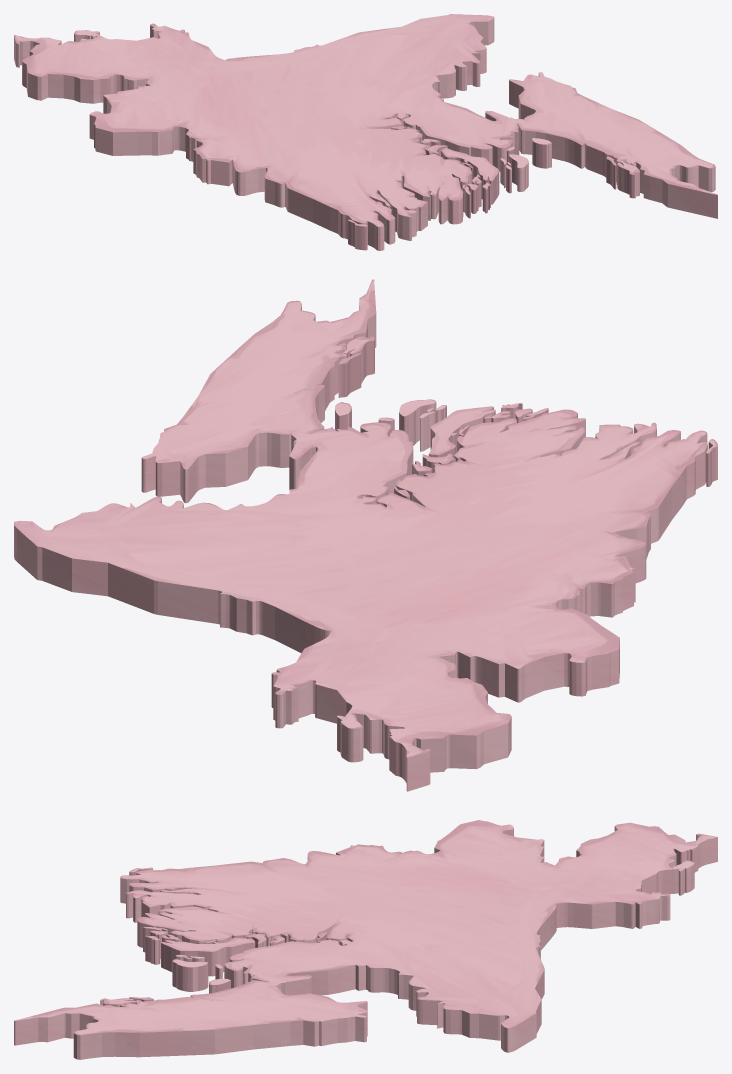
Rendered from Map_3D.fbx.
3 views of the same model, one above another, from view 1: azimuth 30°, elevation 25°; view 2: azimuth 150°, elevation 25°; view 3: azimuth 270°, elevation 25° (orthographic). The views are drawn at different scales.
Parts seen in each view (by area): view 1: Map_3D; view 2: Map_3D; view 3: Map_3D.
Boxes of the visible parts, x1,y1,x2,y2 form: Map_3D: (14, 14, 717, 250); Map_3D: (14, 279, 717, 791); Map_3D: (14, 820, 717, 1059).
Bounding box in the file's own units: 5.65 × 0.2998 × 7.8.
1 material, 1 textured.
